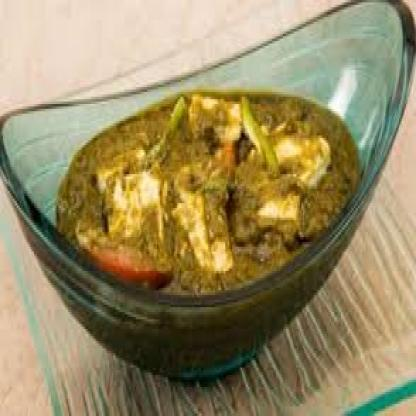palak_paneer: (57, 90, 358, 295)
